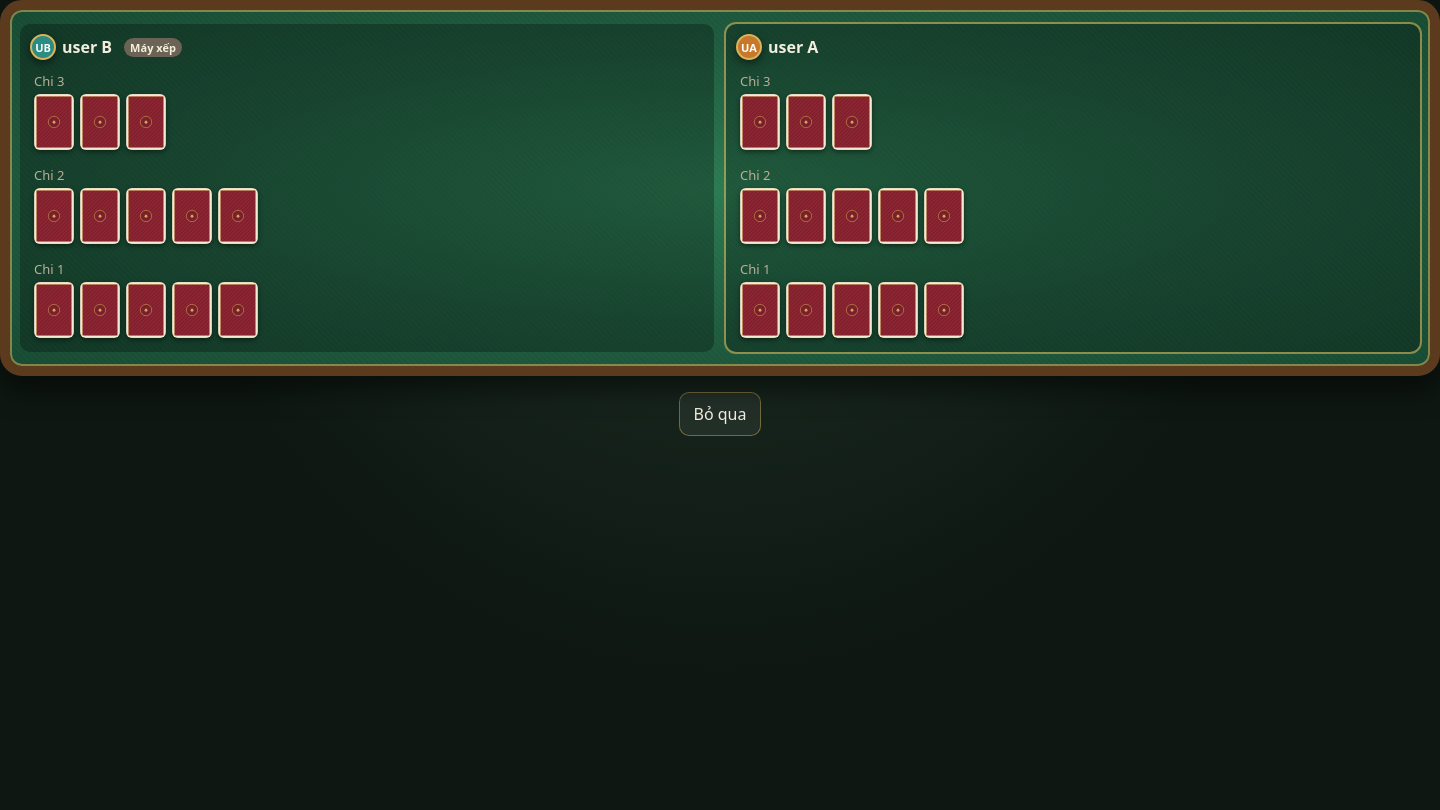
it: RevealTable › can skip the animation straight to the summary (RF4)
Click the button "Bỏ qua". click: (720, 414)
box: top-left (678, 392), bottom-right (762, 436)
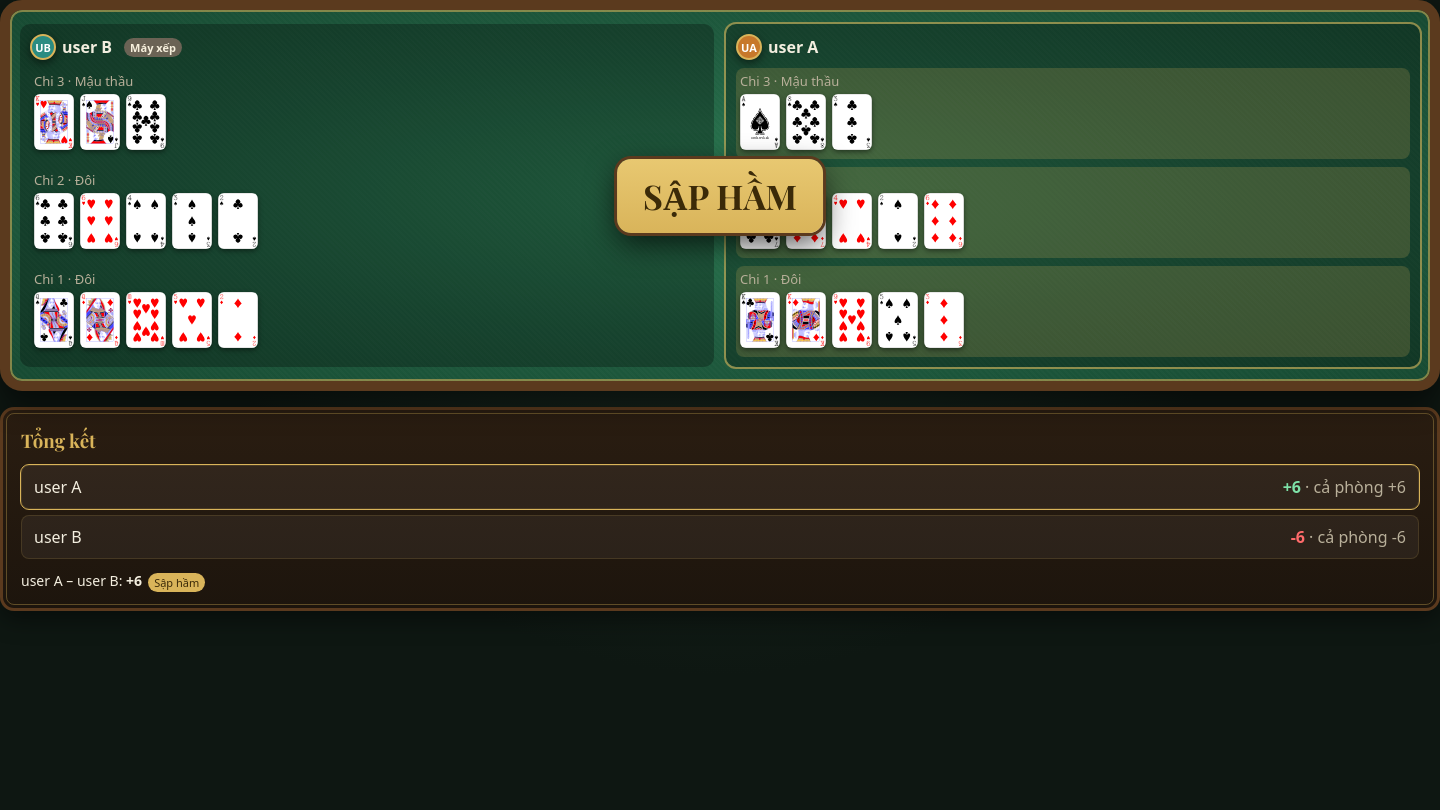
Expected: the heading "Tổng kết" is shown, top-left (21, 428), bottom-right (96, 453)
